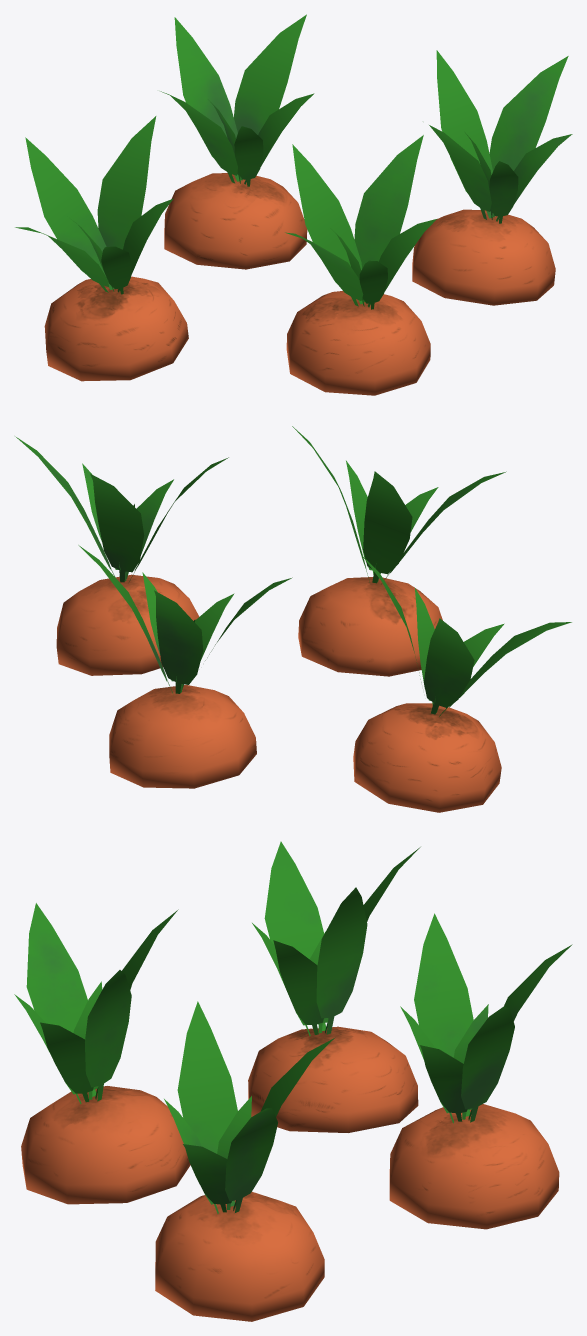
File: morkovka.fbx
The picture shows the model from 3 angles, top to bottom: view 1: azimuth 30°, elevation 25°; view 2: azimuth 150°, elevation 25°; view 3: azimuth 270°, elevation 25°; orthographic projection. The views are drawn at different scales.
Visible parts, largest first — view 1: Radish.007; view 2: Radish.007; view 3: Radish.007.
Part boxes in pixels (x1=…): Radish.007: x1=15, y1=14, x2=572, y2=395; Radish.007: x1=15, y1=426, x2=571, y2=812; Radish.007: x1=14, y1=841, x2=572, y2=1321.
Size of the model in its own units: 1.18 by 0.4753 by 0.8753.
2 materials, 2 textured.
